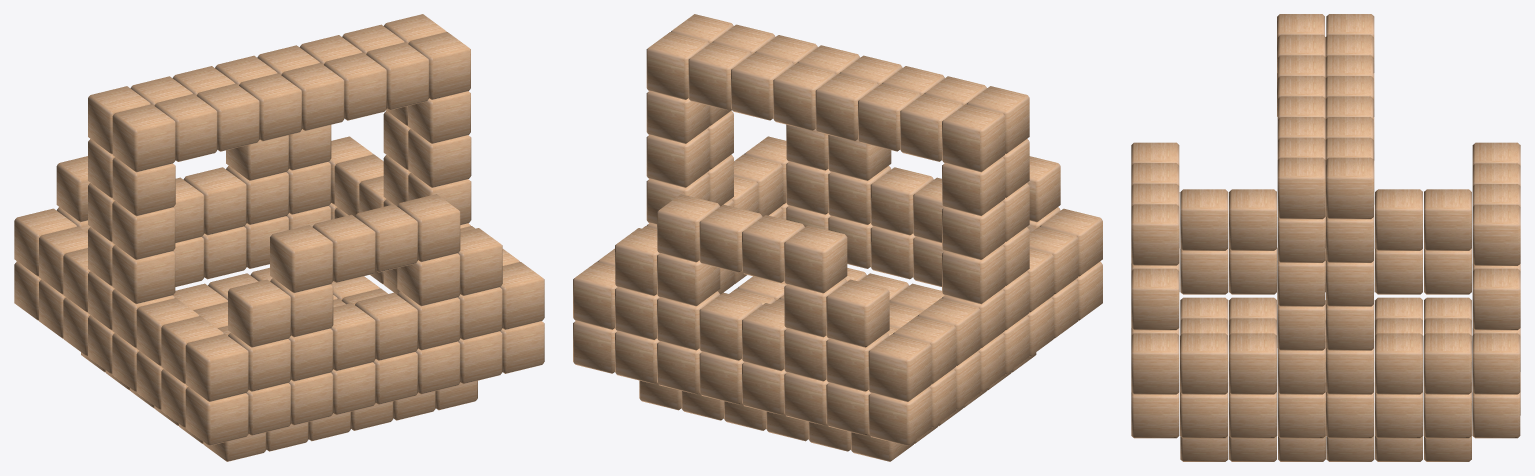
The model's file is level_104.fbx.
3 views of the same model, side by side, from view 1: azimuth 30°, elevation 25°; view 2: azimuth 150°, elevation 25°; view 3: azimuth 270°, elevation 25° (orthographic).
Visible parts, largest first — view 1: Cube.014, Cube.002, Cube.163, Cube.159, Cube.004, Cube.011, Cube.008, Cube.012, Cube.010, Cube.099, Cube.112, Cube.113 (+77 smaller); view 2: Cube.115, Cube.120, Cube.033, Cube.107, Cube.102, Cube.027, Cube.156, Cube.056, Cube.105, Cube.072, Cube.023, Cube.121 (+77 smaller); view 3: Cube.118, Cube.162, Cube.017, Cube.104, Cube.121, Cube.164, Cube.047, Cube.006, Cube.050, Cube.108, Cube.009, Cube.081 (+58 smaller).
Part boxes in pixels (x1,y1,x2,y2): Cube.014: (112, 104, 175, 172); Cube.002: (185, 334, 248, 401); Cube.163: (270, 225, 333, 293); Cube.159: (228, 279, 290, 347); Cube.004: (112, 245, 175, 304); Cube.011: (408, 129, 471, 187); Cube.008: (185, 387, 248, 445); Cube.012: (112, 157, 175, 216); Cube.010: (112, 201, 175, 259); Cube.099: (183, 167, 246, 235); Cube.112: (281, 63, 344, 130); Cube.113: (324, 52, 386, 120); Cube.115: (826, 279, 889, 347); Cube.120: (784, 225, 847, 293); Cube.033: (868, 334, 931, 401); Cube.107: (942, 104, 1004, 172); Cube.102: (646, 129, 709, 187); Cube.027: (868, 387, 931, 445); Cube.156: (870, 167, 933, 235); Cube.056: (942, 245, 1004, 304); Cube.105: (942, 157, 1004, 215); Cube.072: (942, 201, 1004, 259); Cube.023: (731, 52, 793, 120); Cube.121: (657, 194, 720, 262); Cube.118: (1472, 268, 1520, 330); Cube.162: (1131, 268, 1179, 330); Cube.017: (1277, 157, 1325, 219); Cube.104: (1131, 333, 1179, 394); Cube.121: (1472, 204, 1520, 265); Cube.164: (1131, 204, 1179, 265); Cube.047: (1423, 333, 1471, 394); Cube.006: (1180, 189, 1228, 250); Cube.050: (1472, 333, 1520, 394); Cube.108: (1326, 157, 1373, 219); Cube.009: (1229, 189, 1276, 250); Cube.081: (1180, 333, 1227, 394).
Bounding box in the file's own units: 16.16 × 14.09 × 16.21.
